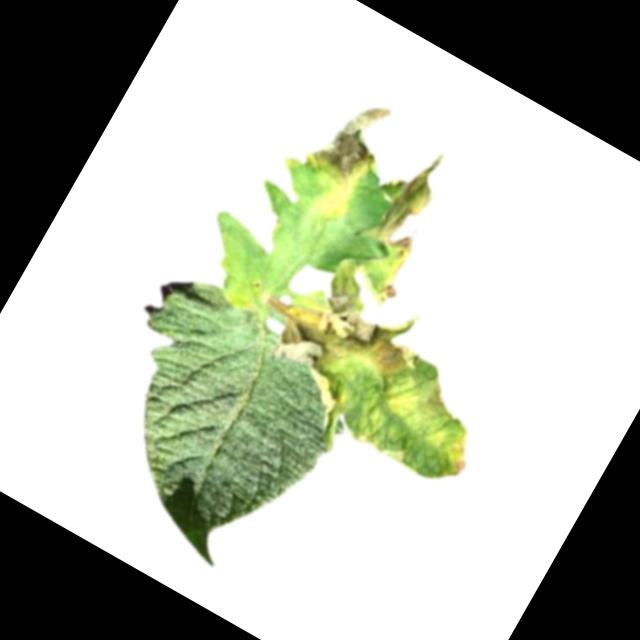Late_blight: (253, 238, 442, 415), (355, 135, 462, 265), (294, 83, 401, 200), (405, 369, 458, 426), (364, 255, 411, 310), (433, 429, 479, 483)
healthy: (59, 265, 376, 591)
